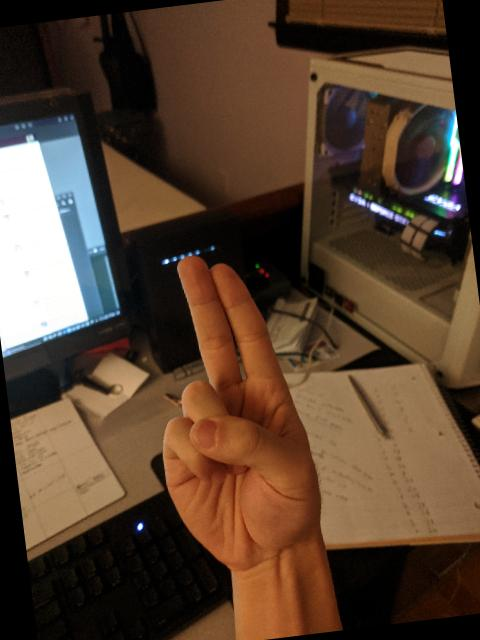U: (133, 240, 332, 580)
